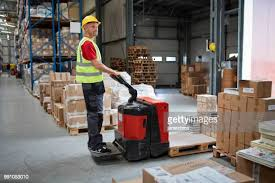Pallet Jack: (81, 71, 215, 162)
